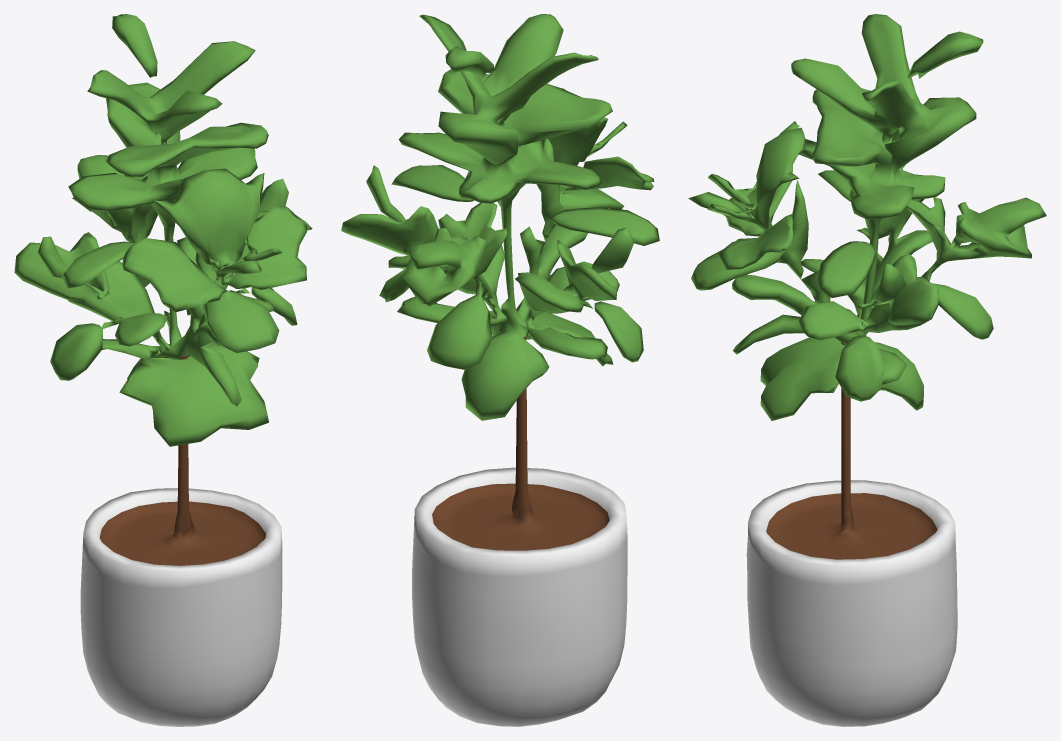
File: Planta3.fbx
3 renders of one model, left to right at view 1: azimuth 30°, elevation 25°; view 2: azimuth 150°, elevation 25°; view 3: azimuth 270°, elevation 25°, orthographic. The views are drawn at different scales.
Visible parts, largest first — view 1: Planta3; view 2: Planta3; view 3: Planta3.
Part boxes in pixels (x1,y1,x2,y2): Planta3: (14,14,312,726); Planta3: (341,14,659,726); Planta3: (688,14,1046,726).
Bounding box in the file's own units: 57.85 × 139 × 67.85.
